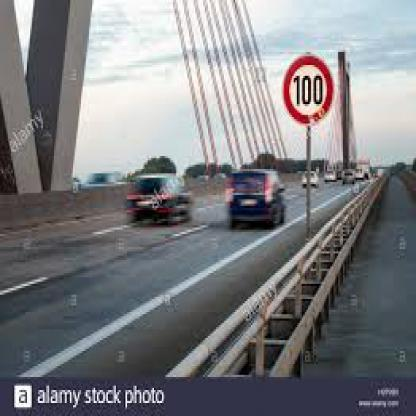Speed Limit 100: (284, 54, 334, 123)
